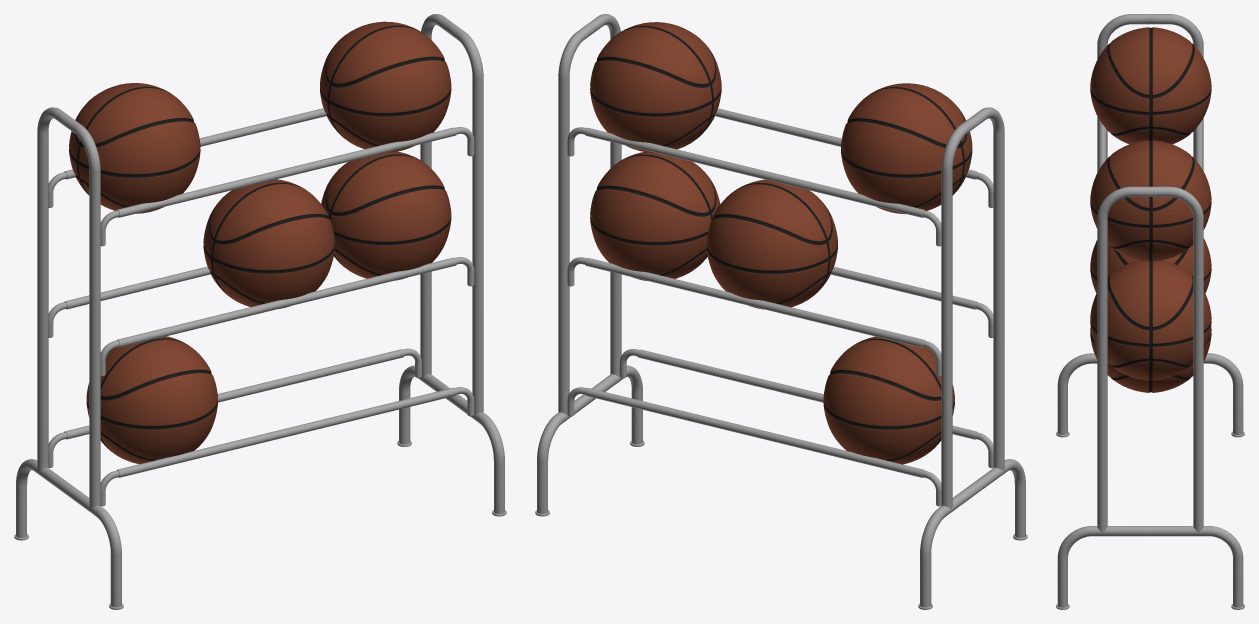
File: EstanteBalones.fbx
3 renders of one model, left to right at view 1: azimuth 30°, elevation 25°; view 2: azimuth 150°, elevation 25°; view 3: azimuth 270°, elevation 25°, orthographic. The views are drawn at different scales.
Visible parts, largest first — view 1: Arch27_013_00, basketball.002, basketball.004, basketball.003, basketball.001, basketball.005; view 2: Arch27_013_00, basketball.002, basketball.004, basketball.003, basketball.001, basketball.005; view 3: Arch27_013_00, basketball.001, basketball.003, basketball.002, basketball.004, basketball.005.
Part boxes in pixels (bbox=[...]): Arch27_013_00: bbox=[14, 14, 506, 609]; basketball.002: bbox=[320, 21, 451, 152]; basketball.004: bbox=[203, 179, 334, 308]; basketball.003: bbox=[321, 151, 451, 280]; basketball.001: bbox=[69, 83, 200, 213]; basketball.005: bbox=[86, 336, 217, 464]; Arch27_013_00: bbox=[535, 14, 1027, 609]; basketball.002: bbox=[590, 22, 721, 152]; basketball.004: bbox=[706, 179, 837, 309]; basketball.003: bbox=[590, 152, 720, 281]; basketball.001: bbox=[841, 83, 972, 214]; basketball.005: bbox=[823, 336, 954, 464]; Arch27_013_00: bbox=[1056, 14, 1244, 609]; basketball.001: bbox=[1090, 27, 1211, 144]; basketball.003: bbox=[1090, 260, 1211, 380]; basketball.002: bbox=[1090, 140, 1211, 261]; basketball.004: bbox=[1090, 238, 1211, 293]; basketball.005: bbox=[1090, 326, 1211, 392].
Bounding box in the file's own units: 381 × 430 × 170.
